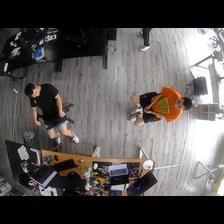normal: (23, 81, 79, 146), (126, 85, 191, 132)
